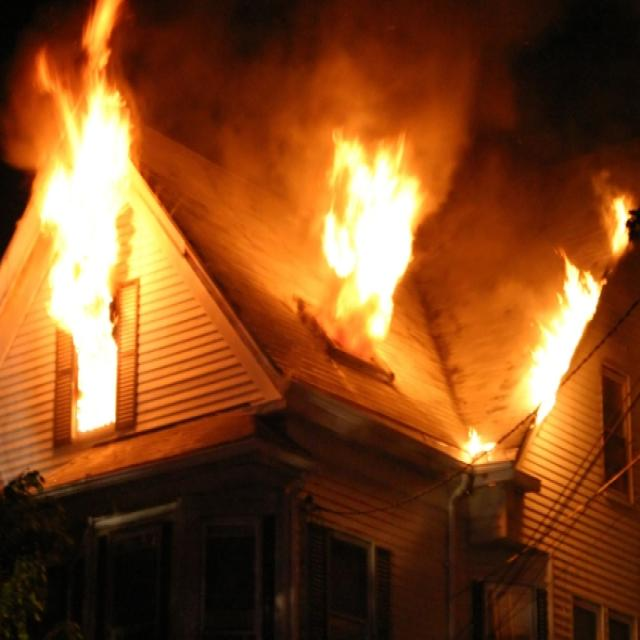fire: (40, 54, 150, 424), (309, 122, 435, 438), (530, 274, 614, 414), (585, 162, 640, 259), (458, 416, 506, 464)
